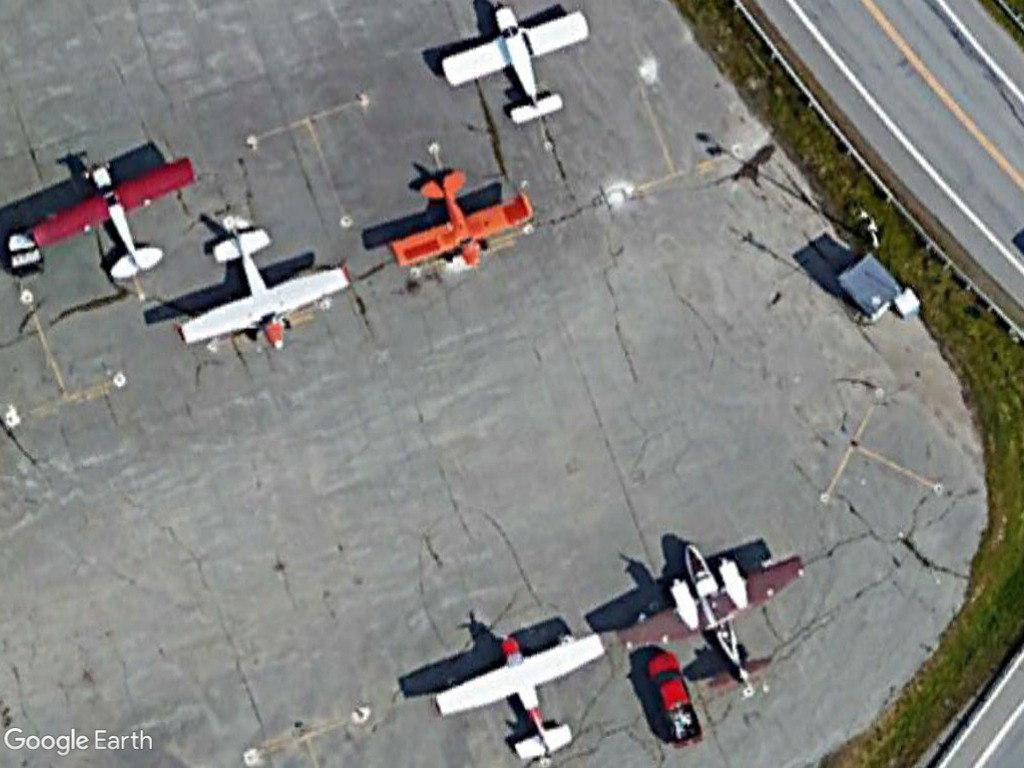other: (647, 643, 704, 751)
trainer: (171, 222, 358, 363), (430, 620, 610, 766), (24, 145, 200, 285), (442, 4, 593, 134), (384, 169, 535, 272)
